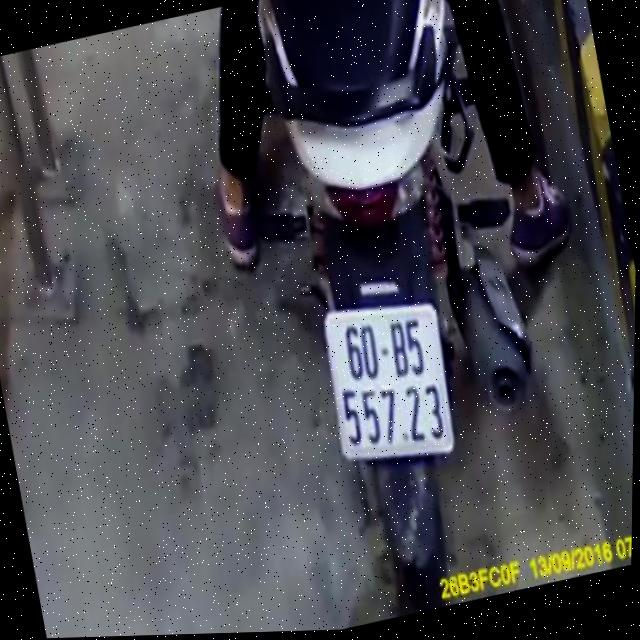motorcycle: (226, 0, 584, 632)
plate: (309, 280, 471, 483)
